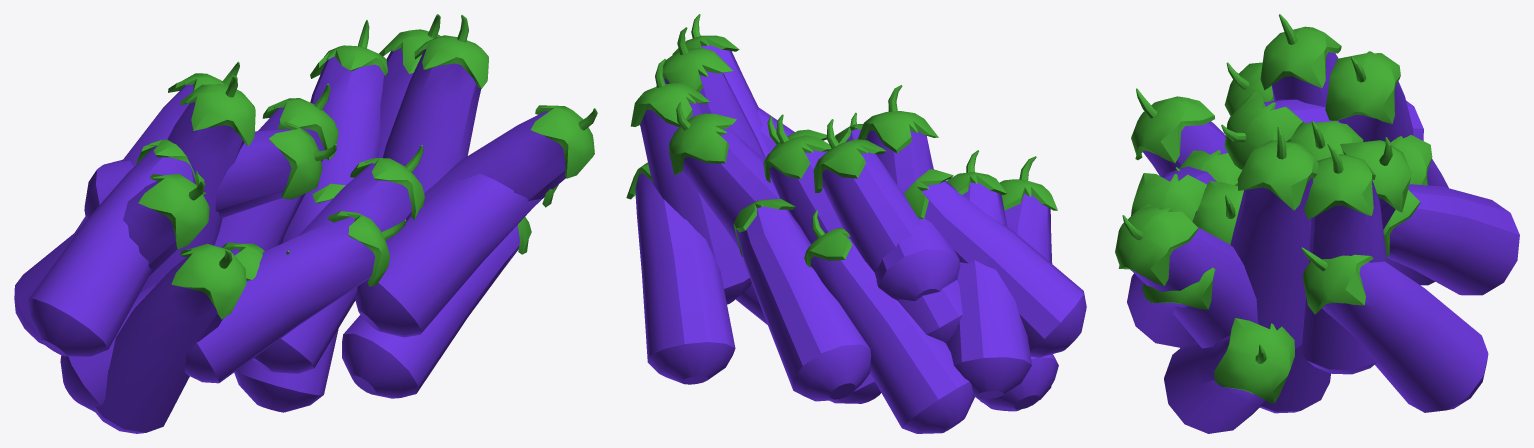
Rendered from berenjenas.fbx.
3 renders of one model, left to right at view 1: azimuth 30°, elevation 25°; view 2: azimuth 150°, elevation 25°; view 3: azimuth 270°, elevation 25°, orthographic. The views are drawn at different scales.
Parts seen in each view (by area): view 1: Berenjenas.001; view 2: Berenjenas.001; view 3: Berenjenas.001.
Boxes of the visible parts, x1,y1,x2,y2 form: Berenjenas.001: (14, 14, 597, 433); Berenjenas.001: (626, 14, 1086, 433); Berenjenas.001: (1115, 14, 1519, 433).
Size of the model in its own units: 80.33 by 54.65 by 53.86.
